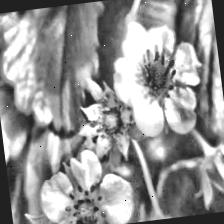Blossom Blight: (134, 40, 183, 109), (89, 90, 133, 144), (57, 178, 108, 224)
